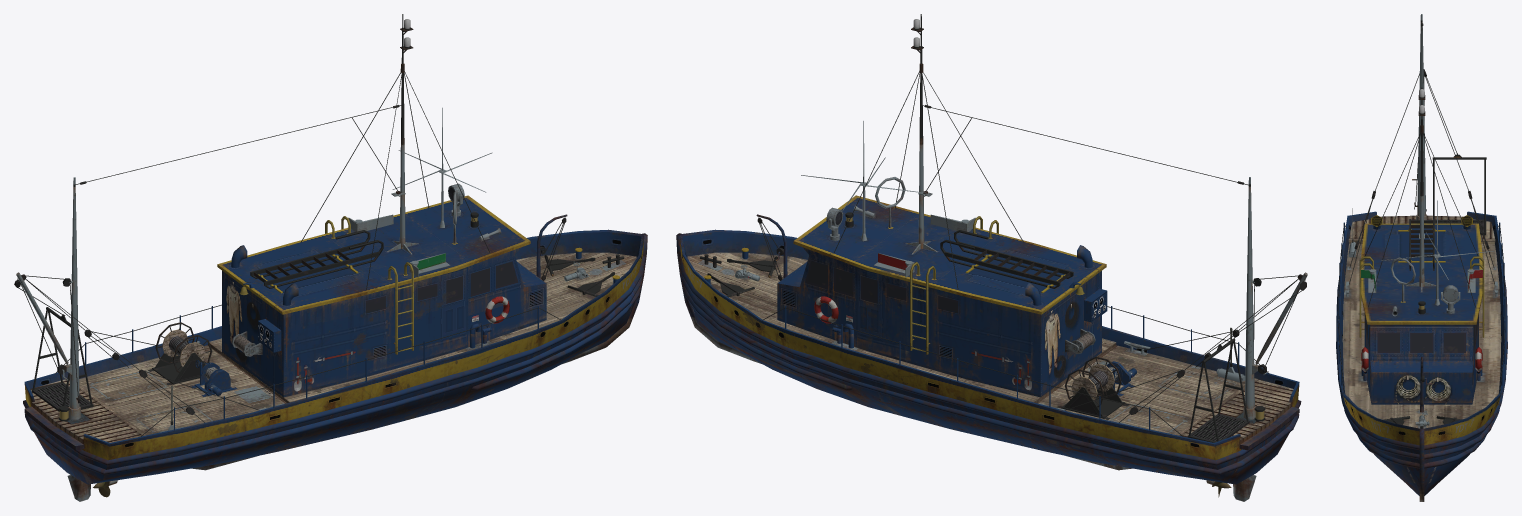
The model's file is ship.glb.
3 views of the same model, side by side, from view 1: azimuth 30°, elevation 25°; view 2: azimuth 150°, elevation 25°; view 3: azimuth 270°, elevation 25° (orthographic). The views are drawn at different scales.
Visible parts, largest first — view 1: LSB011Shape; view 2: LSB011Shape; view 3: LSB011Shape, AM085_TBS_AntennaShape_0009, Signalling_Lamp_300mmShape_0005, AM047_Running_Lights_RShape_0017, AM048_Running_Lights_LShape_0019.
Part boxes in pixels (<box>): LSB011Shape: <box>14,14,647,501</box>; LSB011Shape: <box>676,14,1307,501</box>; LSB011Shape: <box>1336,14,1507,501</box>; AM085_TBS_AntennaShape_0009: <box>1380,200,1493,305</box>; Signalling_Lamp_300mmShape_0005: <box>1441,285,1460,313</box>; AM047_Running_Lights_RShape_0017: <box>1361,269,1376,292</box>; AM048_Running_Lights_LShape_0019: <box>1467,269,1482,292</box>.
Size of the model in its own units: 0.0108 by 0.0067 by 0.00291.
9 materials, 9 textured.
